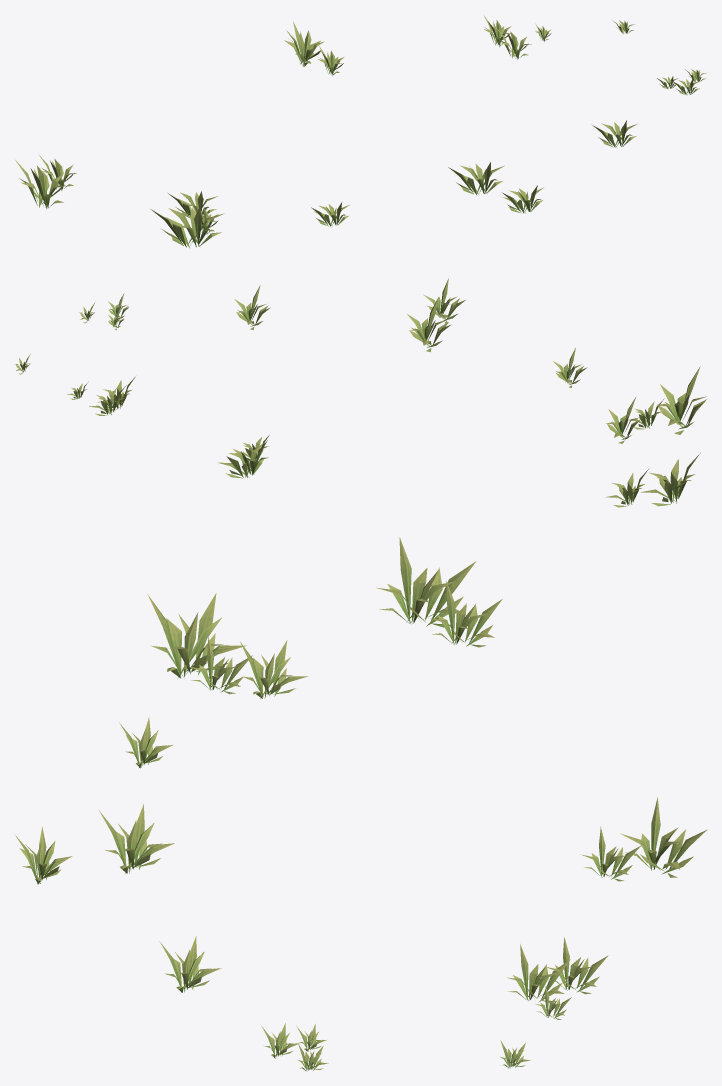
File: area_04_5.FBX
The picture shows the model from 3 angles, top to bottom: view 1: azimuth 30°, elevation 25°; view 2: azimuth 150°, elevation 25°; view 3: azimuth 270°, elevation 25°; orthographic projection. The views are drawn at different scales.
Visible parts, largest first — view 1: area_04_5; view 2: area_04_5; view 3: area_04_5.
Boxes of the visible parts, <box> form: area_04_5: <box>14,14,706,247</box>; area_04_5: <box>14,278,706,507</box>; area_04_5: <box>14,537,707,1070</box>.
Bounding box in the file's own units: 27.46 × 2.28 × 17.14.
